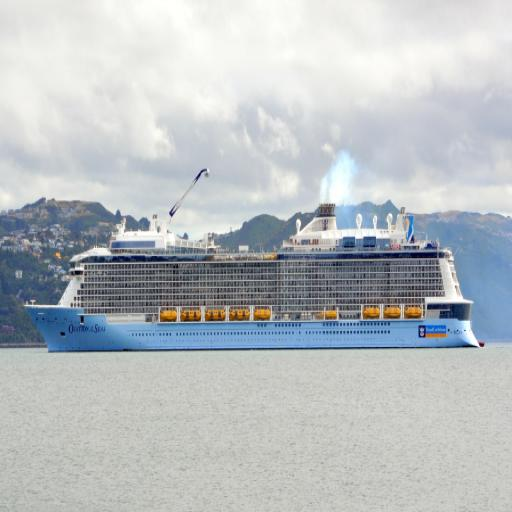cruises: (18, 199, 487, 355)
